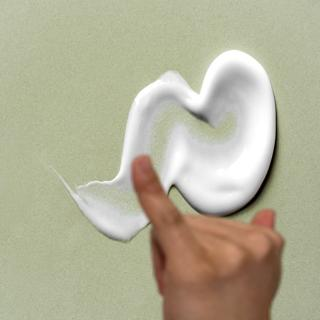HAVE: (120, 139, 307, 320)
